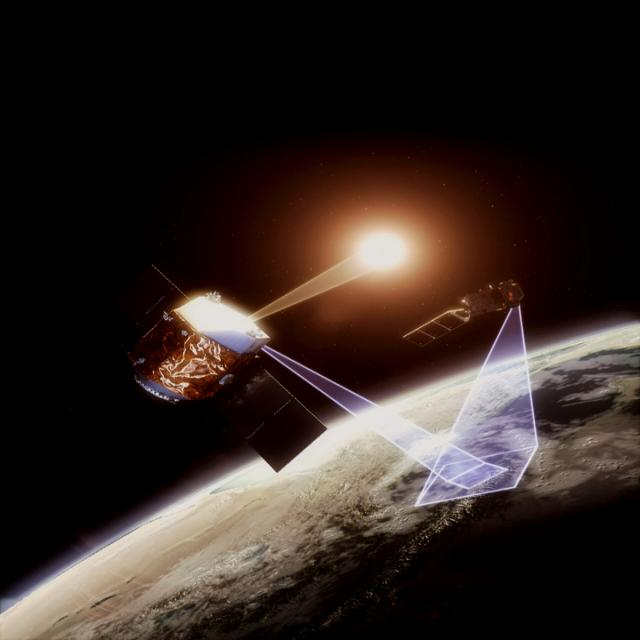satellite: (121, 251, 327, 480), (396, 262, 529, 350)
